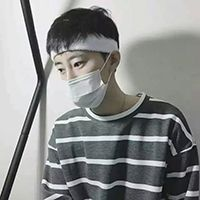face_mask: (51, 39, 108, 108)
